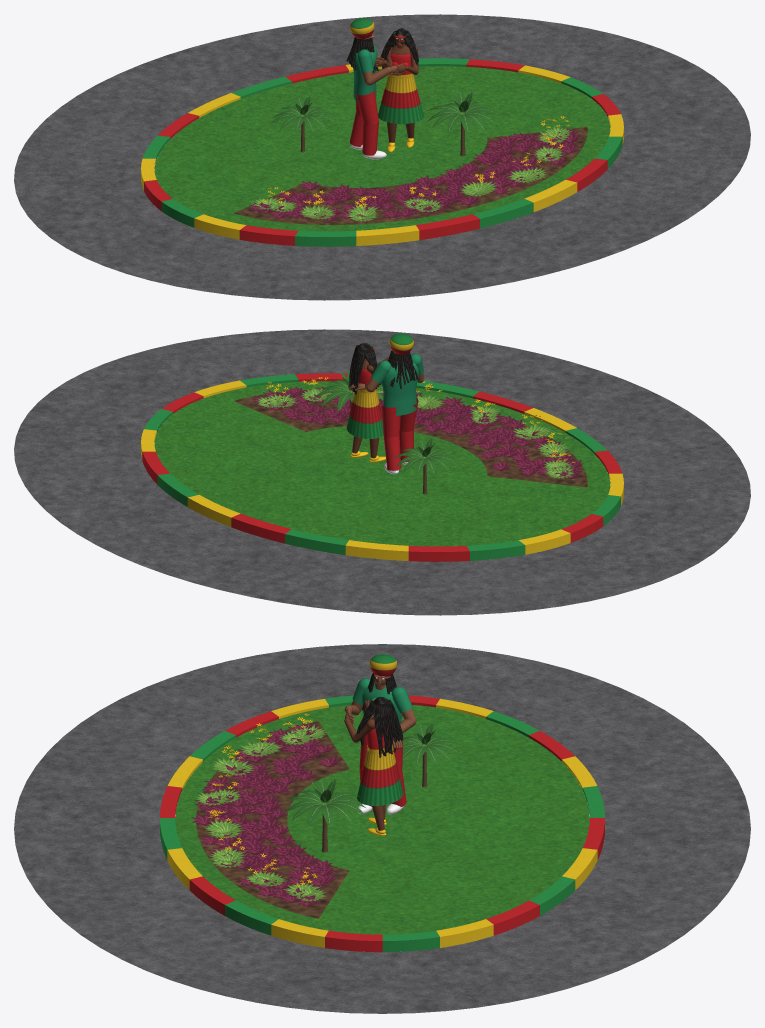
File: reggae.glb
3 renders of one model, top to bottom at view 1: azimuth 30°, elevation 25°; view 2: azimuth 150°, elevation 25°; view 3: azimuth 270°, elevation 25°, orthographic. The views are drawn at different scales.
Parts seen in each view (by area): view 1: Asfalto, Ilha_gramado_meiofio, Canteiro_plantas, Estatua_Casal_Reggae, Palmeira_1, Palmeira_2; view 2: Asfalto, Ilha_gramado_meiofio, Canteiro_plantas, Estatua_Casal_Reggae, Palmeira_2, Palmeira_1; view 3: Asfalto, Ilha_gramado_meiofio, Canteiro_plantas, Estatua_Casal_Reggae, Palmeira_1, Palmeira_2.
Part boxes in pixels (x1,y1,x2,y2): Asfalto: (14, 14, 750, 300); Ilha_gramado_meiofio: (141, 58, 623, 246); Canteiro_plantas: (234, 116, 587, 224); Estatua_Casal_Reggae: (346, 18, 423, 159); Palmeira_1: (427, 90, 501, 155); Palmeira_2: (271, 96, 334, 152); Asfalto: (14, 329, 750, 615); Ilha_gramado_meiofio: (141, 373, 623, 561); Canteiro_plantas: (234, 377, 587, 487); Estatua_Casal_Reggae: (346, 333, 424, 474); Palmeira_2: (393, 439, 457, 494); Palmeira_1: (314, 370, 383, 411); Asfalto: (14, 644, 750, 1013); Ilha_gramado_meiofio: (160, 695, 604, 952); Canteiro_plantas: (191, 713, 349, 918); Estatua_Casal_Reggae: (344, 654, 416, 835); Palmeira_1: (285, 779, 365, 852); Palmeira_2: (402, 723, 460, 787).
Size of the model in its own units: 1 by 0.2043 by 0.8421.
Materials: 28 (28 with a texture image).
